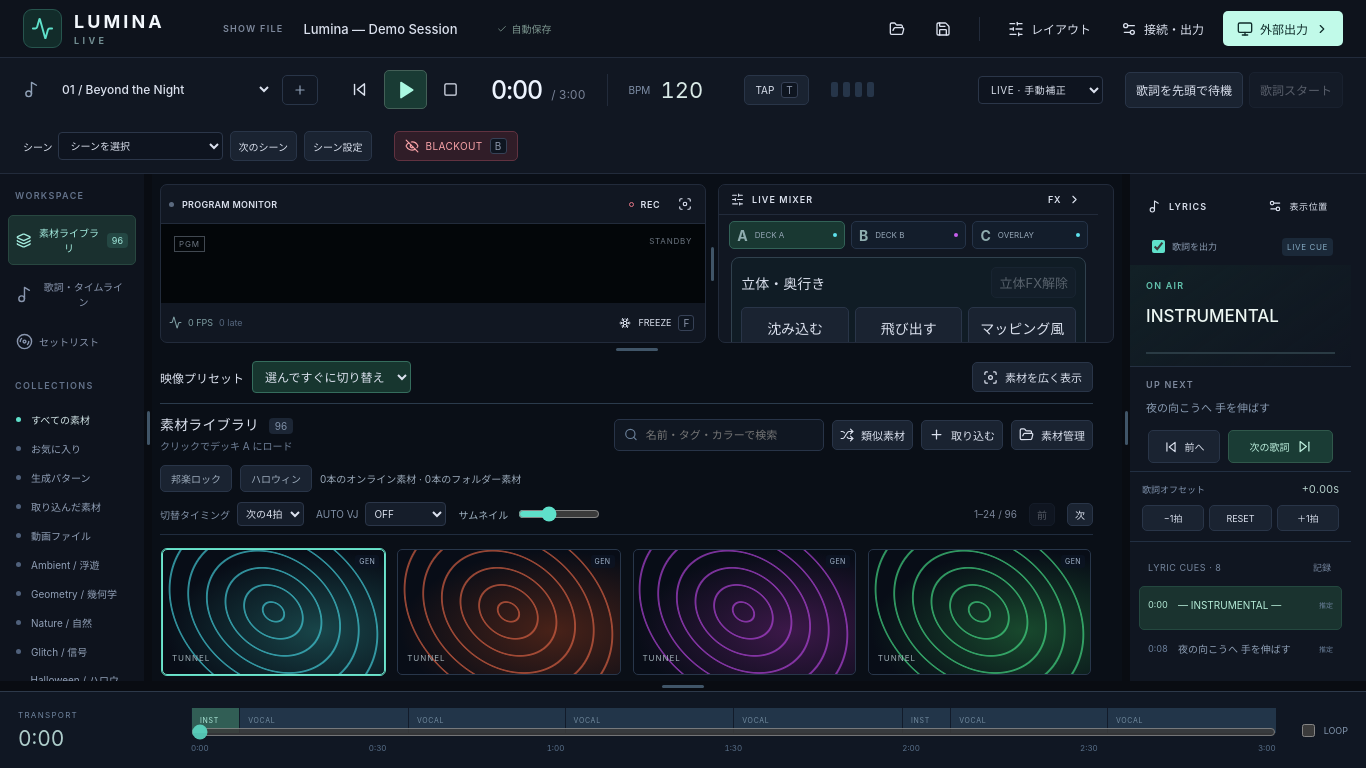
Test: scene settings dialog opened from the real App › opens setlist row 1 without loading that song into the live transport
Check: the dropdown named "現在の曲" shows "01 / Beyond the Night", box [50,75,272,104]
Click the button "セットリスト" at (72, 342), box [8,323,136,360]
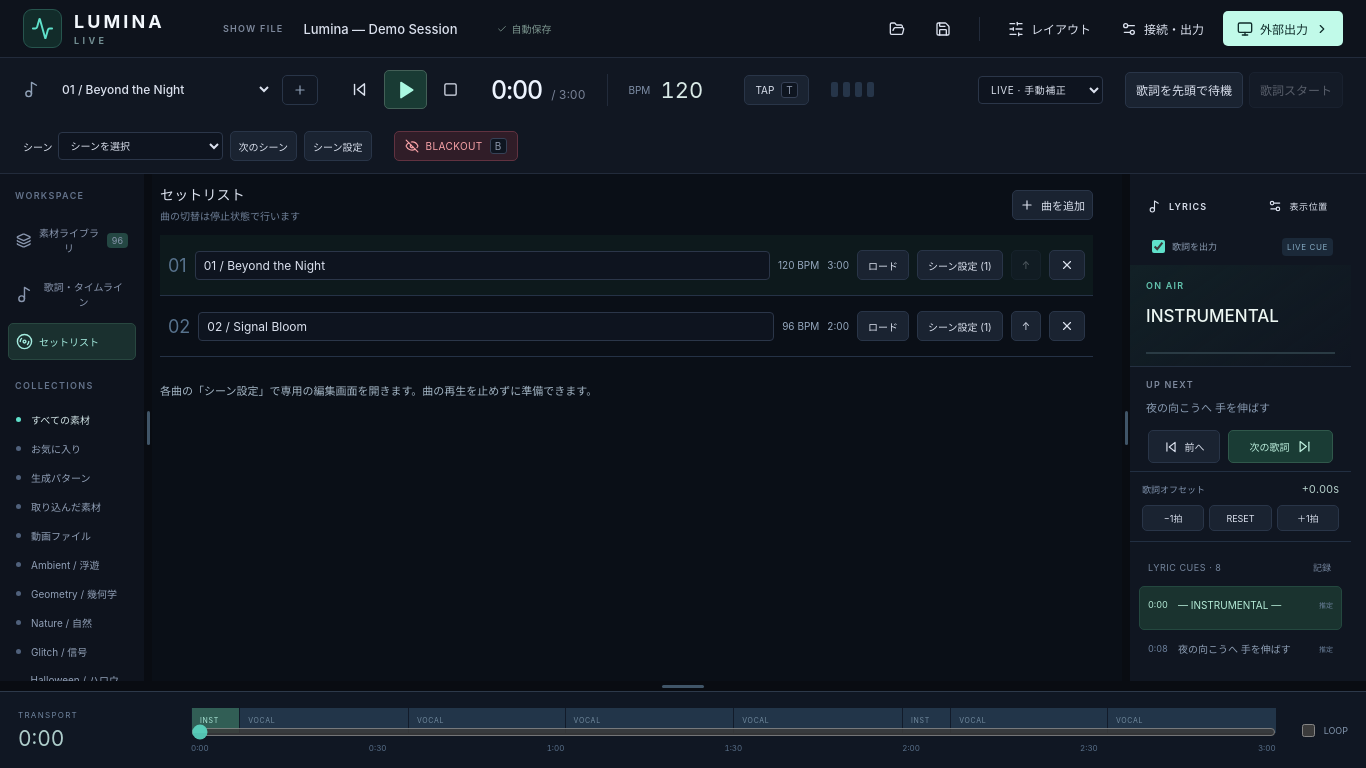
Check: the button "シーン設定 (1)" in the row of "02" is shown
Click the button "シーン設定 (1)" in the row of "02" at (960, 326), box [917,311,1003,341]
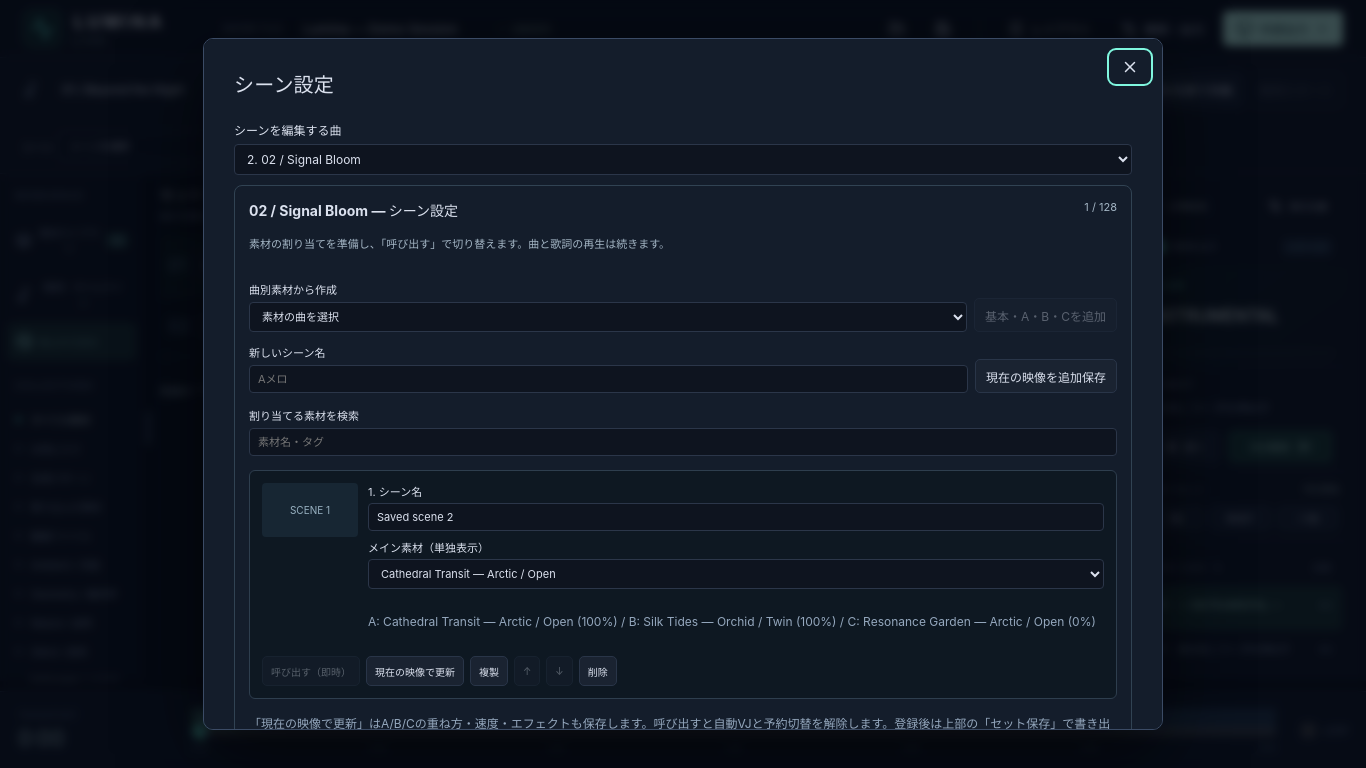
Check: the number of dialogs named "シーン設定" is 1
Check: the dialog named "シーン設定" is shown
Check: the element named "シーン設定" is shown
